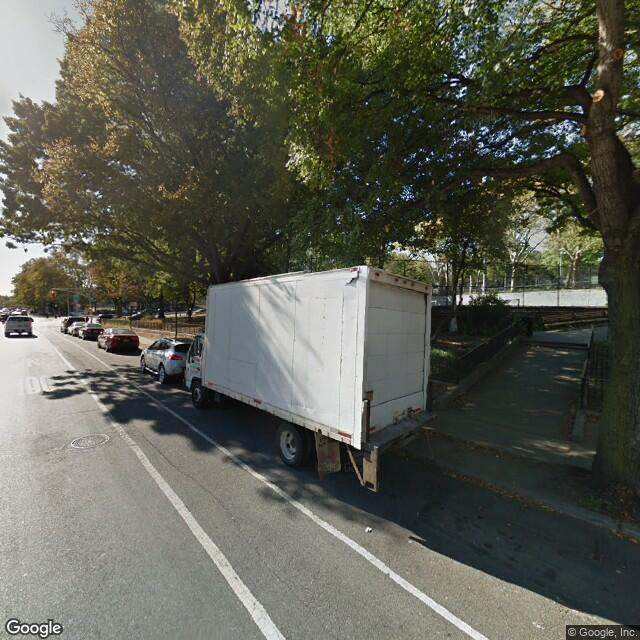litter: (363, 526, 371, 532)
